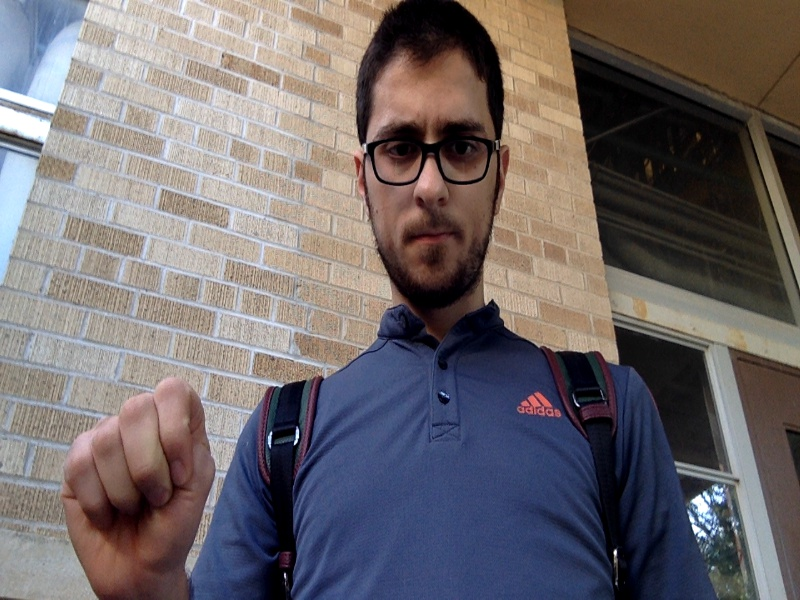0-hand: (61, 377, 214, 582)
